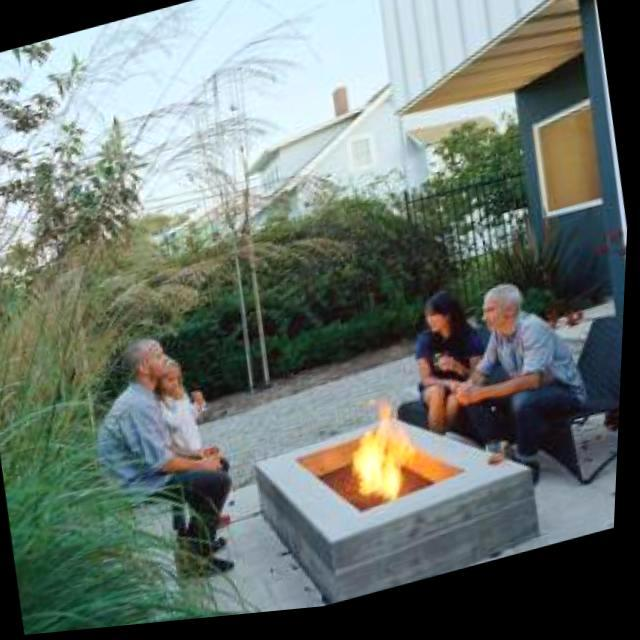fire: (334, 394, 424, 532)
